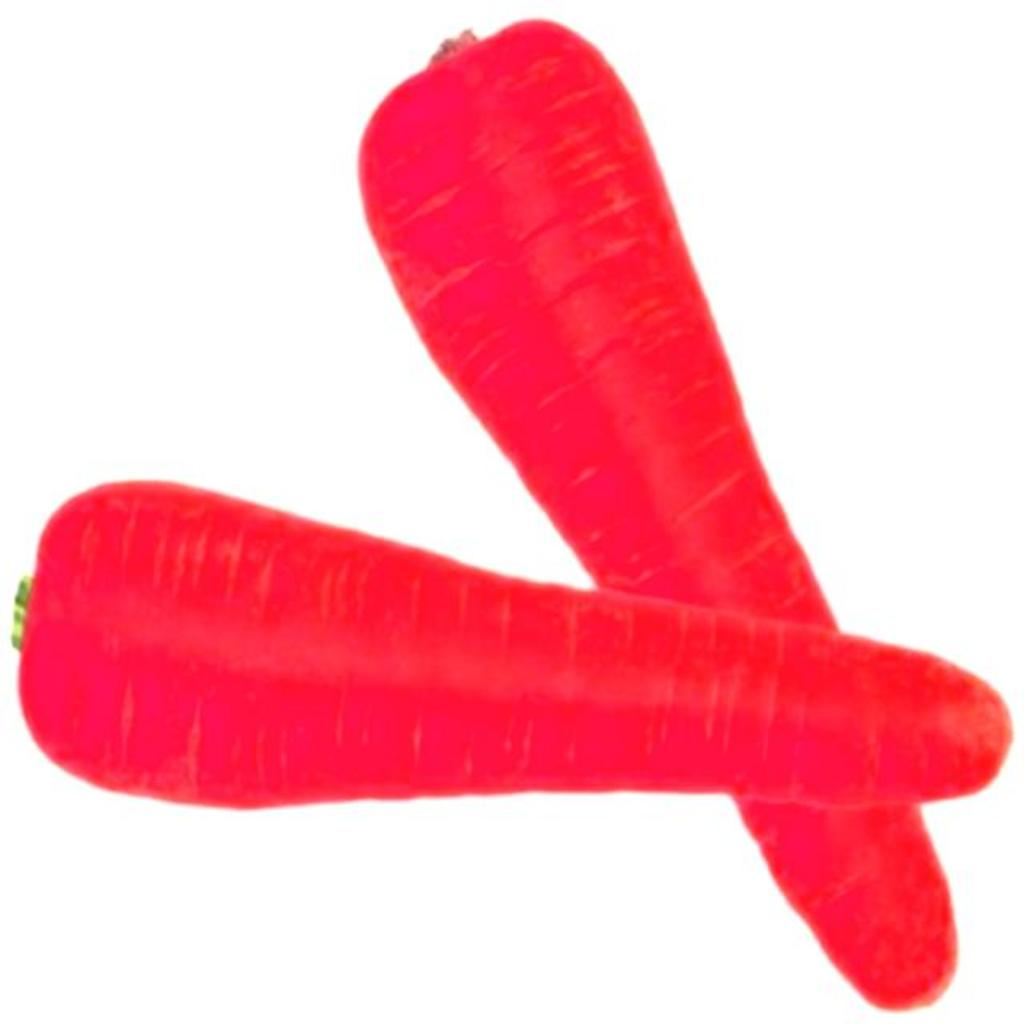carrot: (360, 22, 961, 1011), (20, 484, 1010, 806)
